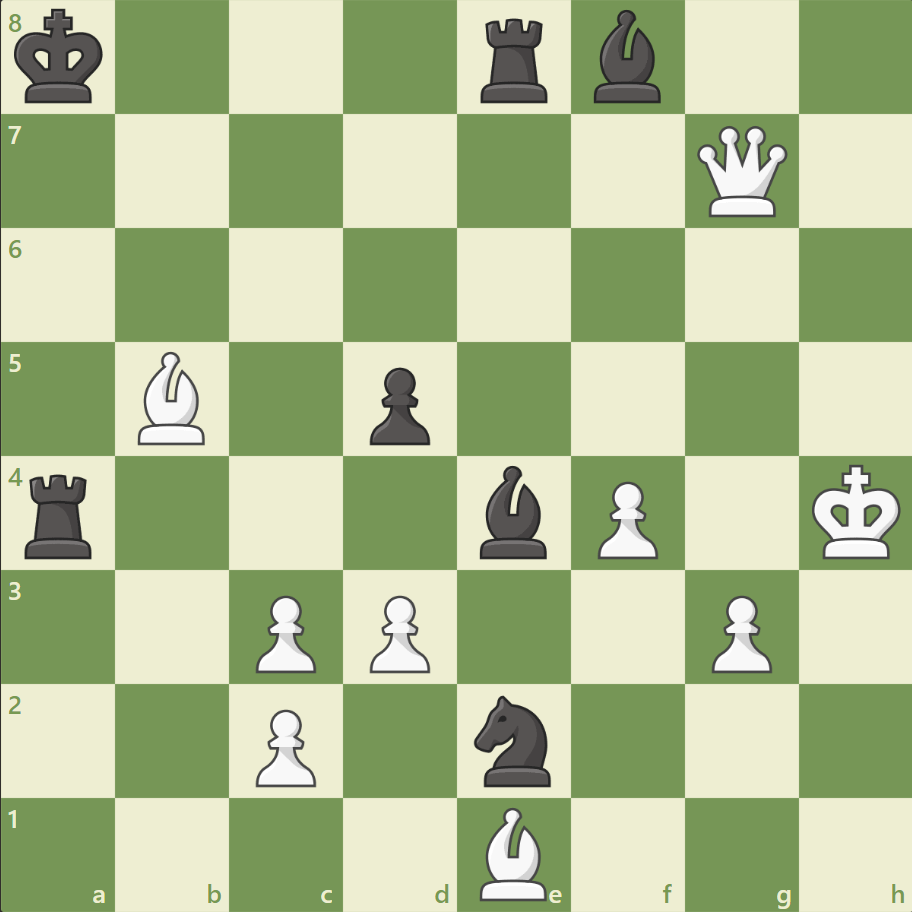B: (471, 801, 555, 904), (131, 347, 215, 449)
K: (806, 458, 906, 566)
P: (247, 586, 322, 677), (701, 586, 776, 677), (247, 700, 322, 791), (588, 473, 662, 564), (361, 586, 435, 677)
Q: (691, 122, 790, 222)
b: (585, 6, 669, 109), (471, 460, 555, 563)
k: (11, 4, 111, 112)
n: (465, 688, 562, 791)
p: (361, 359, 435, 450)
r: (473, 12, 556, 109), (19, 466, 102, 563)
